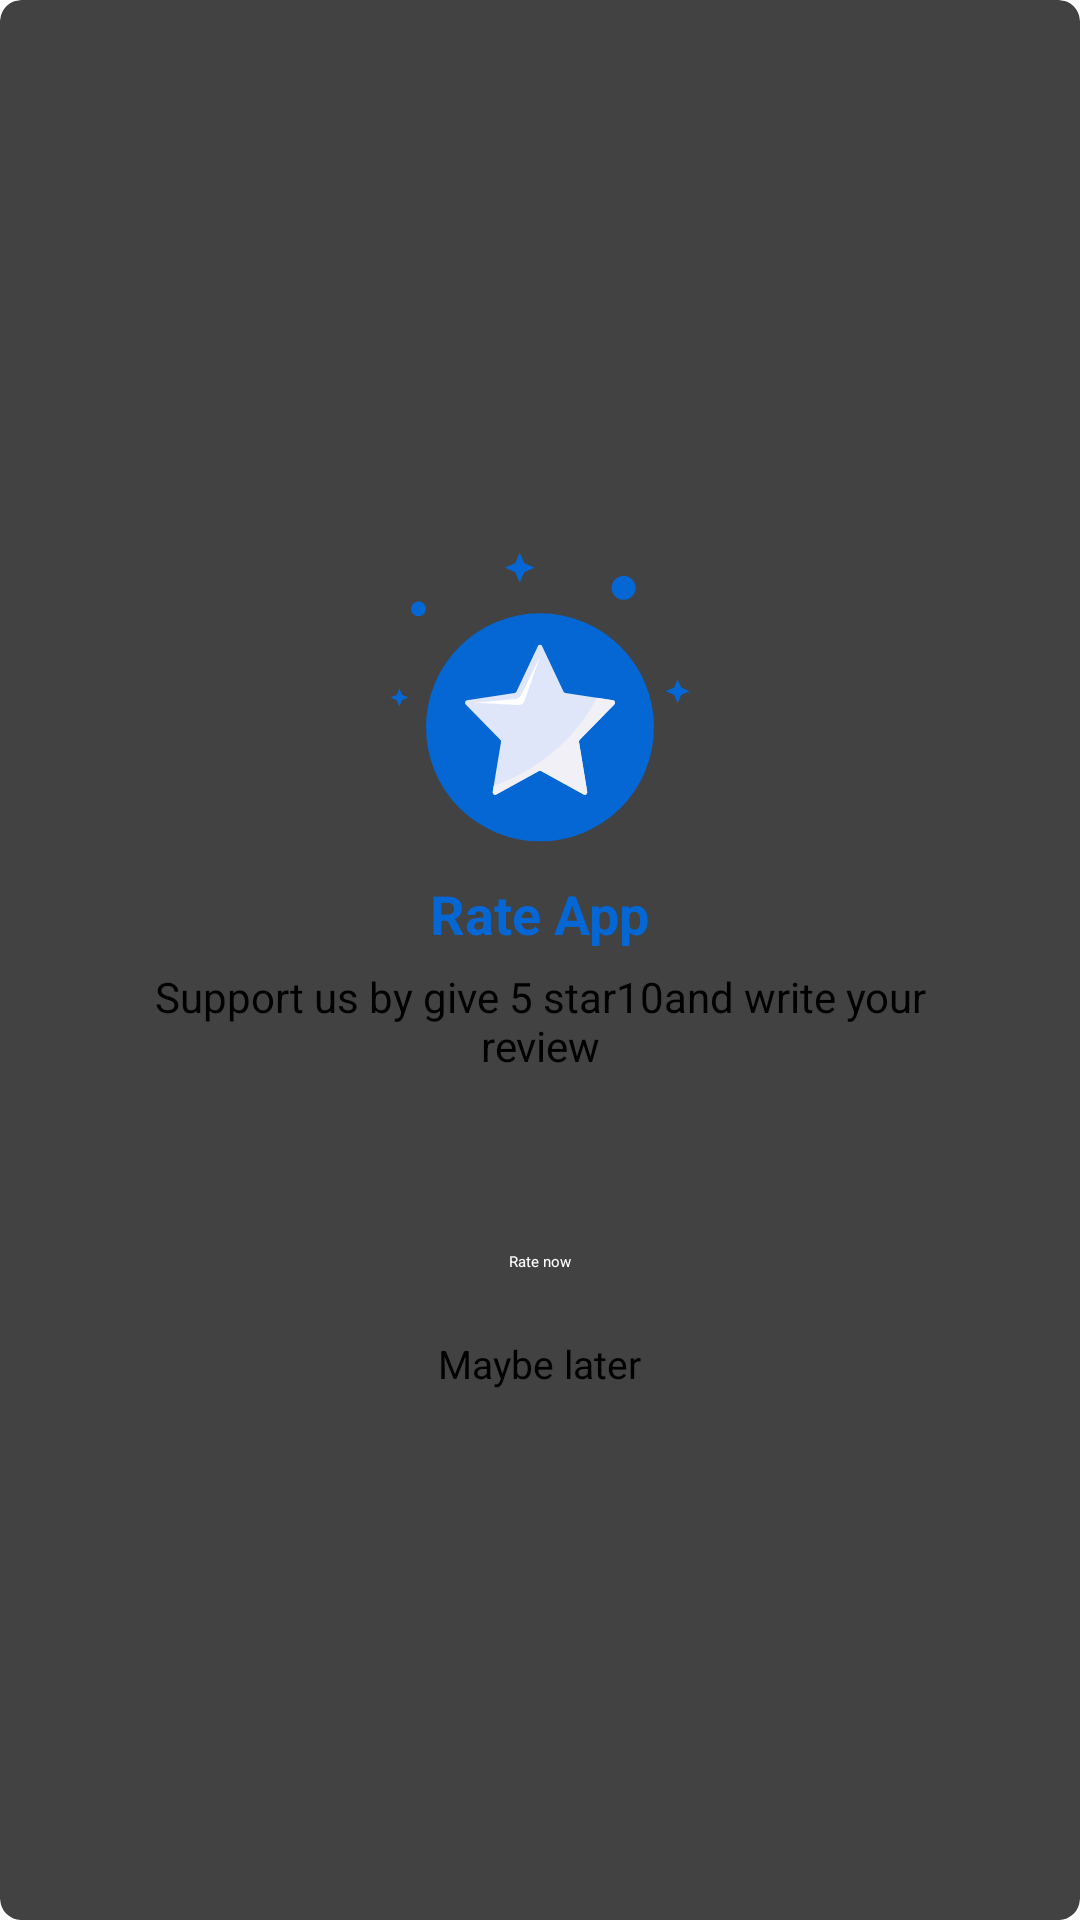

Named icons in this screenshot (1080x1920) and their bounding boxes, bbox(x1, y1, x2, y2):
rate star: bbox(391, 553, 689, 842)
